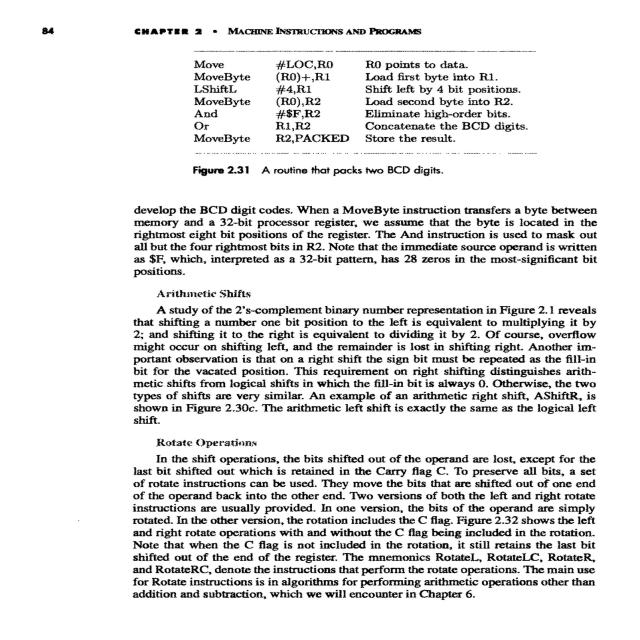diagram: (104, 37, 616, 190)
